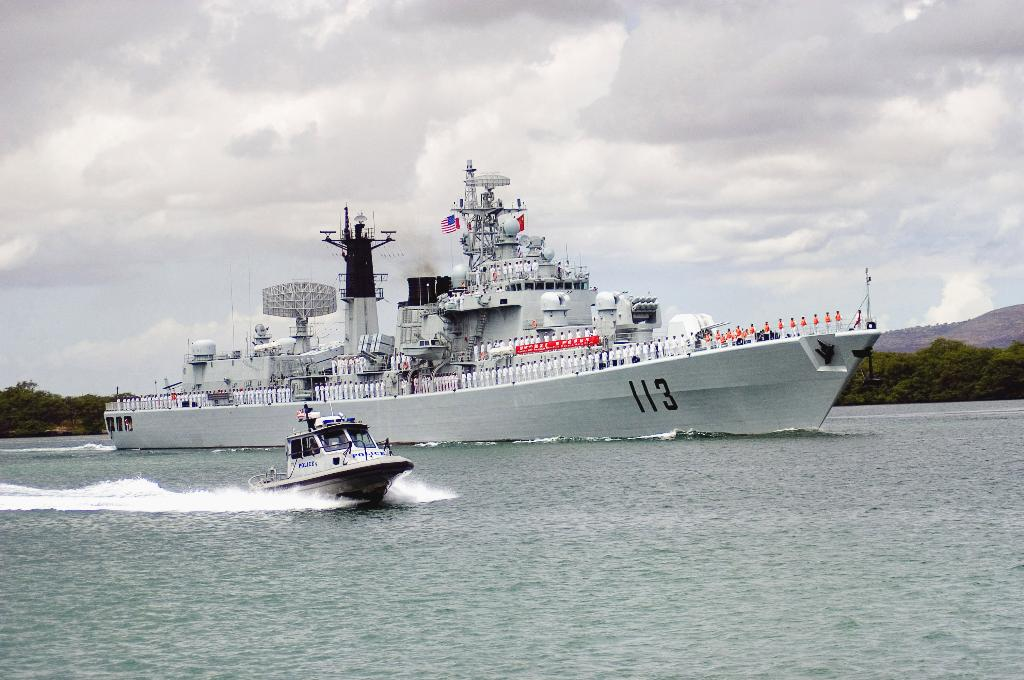Warship: (102, 156, 882, 446)
